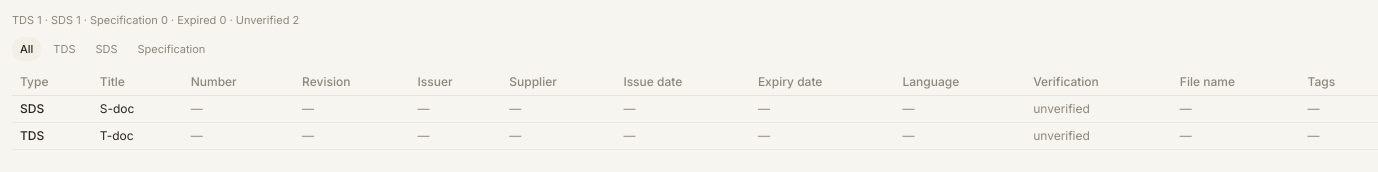
it: MaterialDocumentsPanel › type filter distinguishes all/TDS/SDS/specification
Check: the text "T-doc" is shown, box left=92, top=122, right=183, bottom=150
Click the button "SDS" at x=107, y=49, box left=88, top=36, right=126, bottom=61
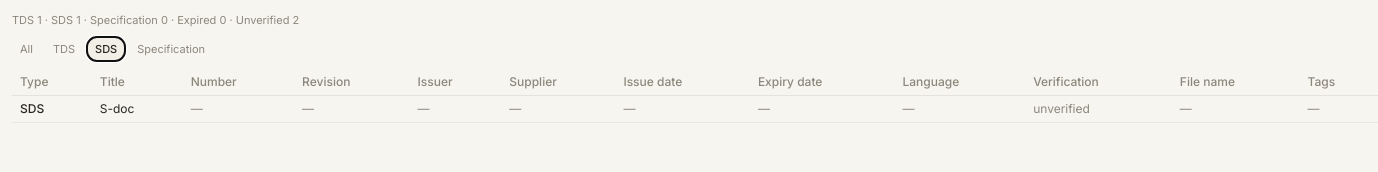
Check: the text "S-doc" is shown, box left=92, top=96, right=183, bottom=122
Check: the text "T-doc" is gone
